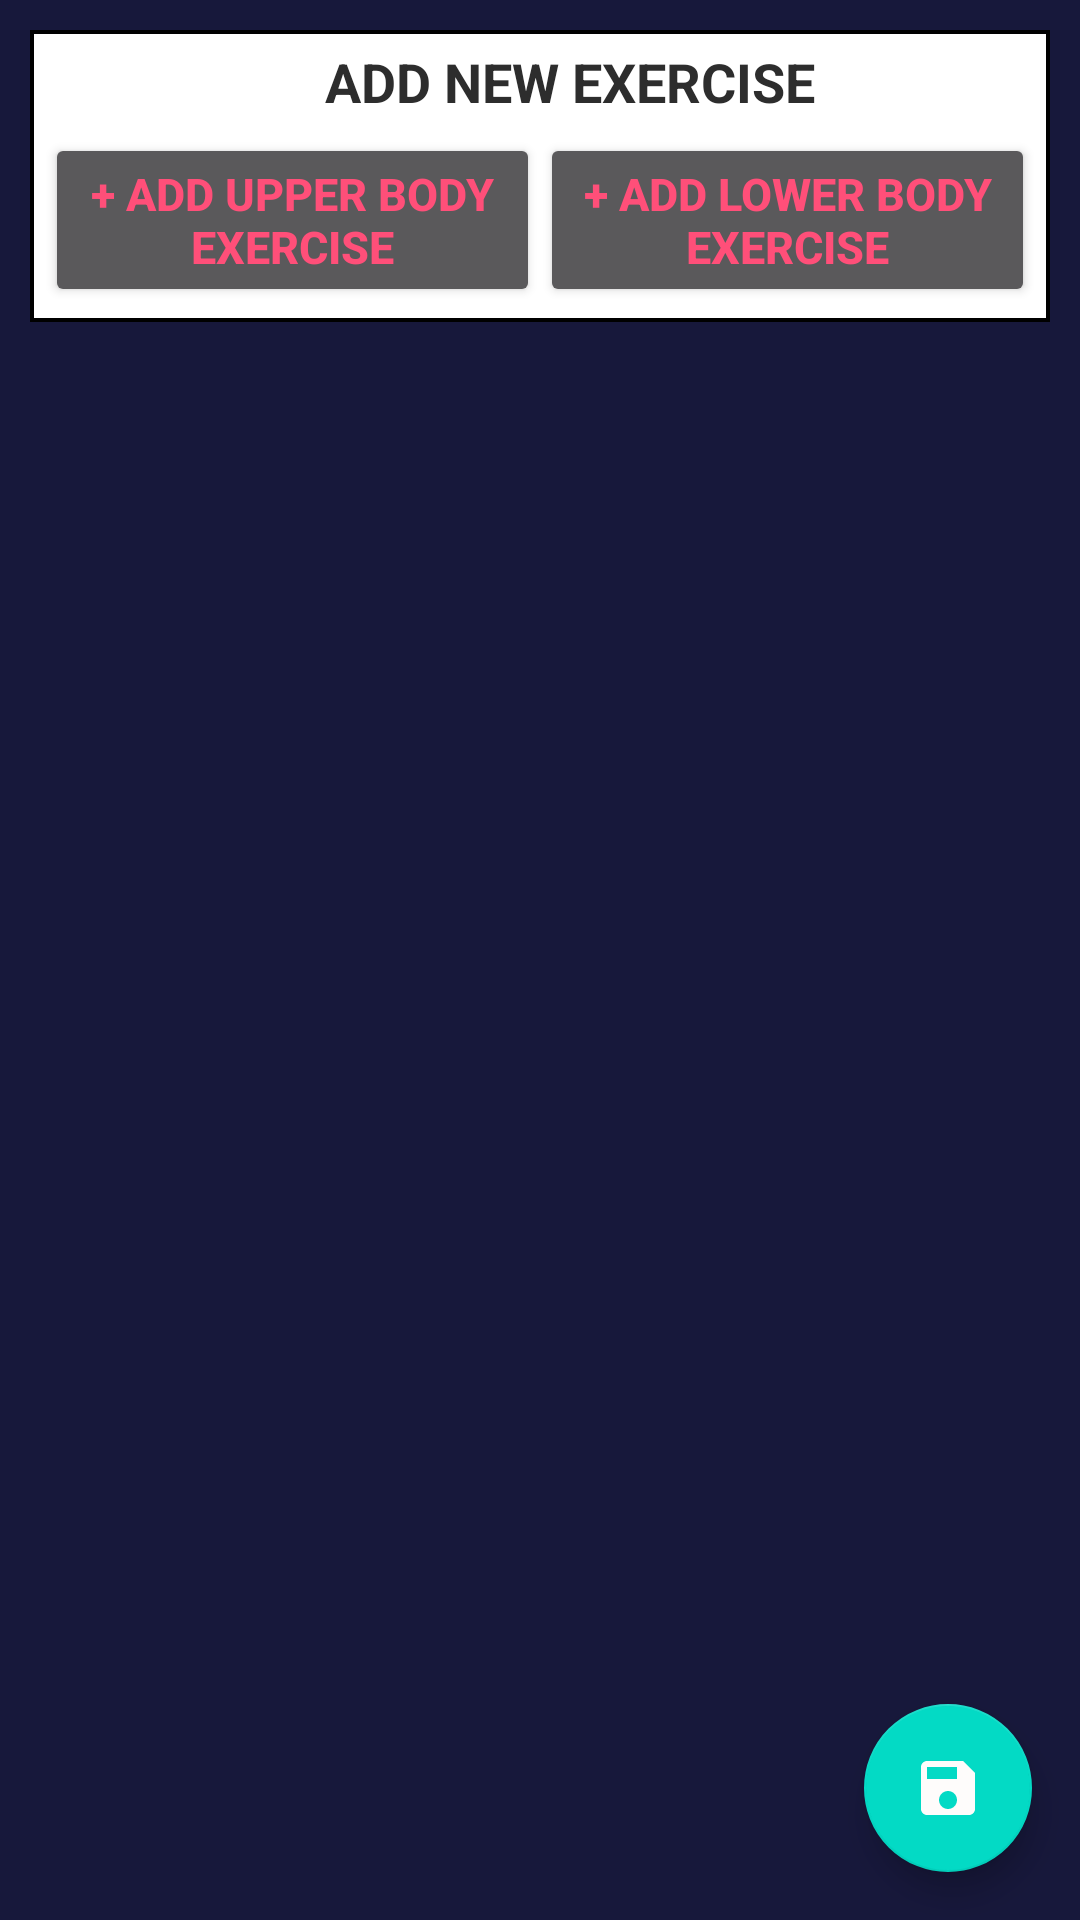

Icon click points for this 1080px×1920px phone screenshot, format [x,y]:
submit: [948,1788]
